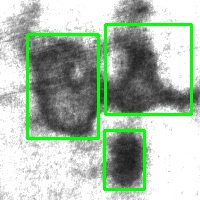patches: (105, 24, 191, 114), (27, 34, 98, 138), (104, 130, 144, 189)
